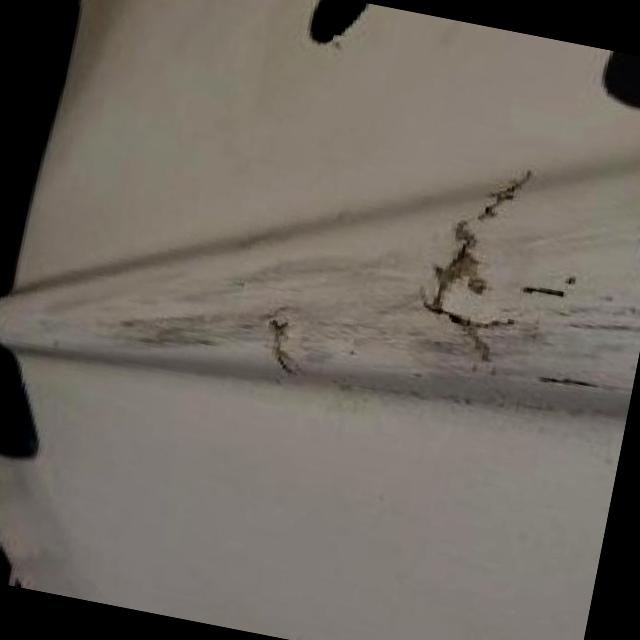crack: (416, 154, 526, 367), (262, 326, 304, 379)
